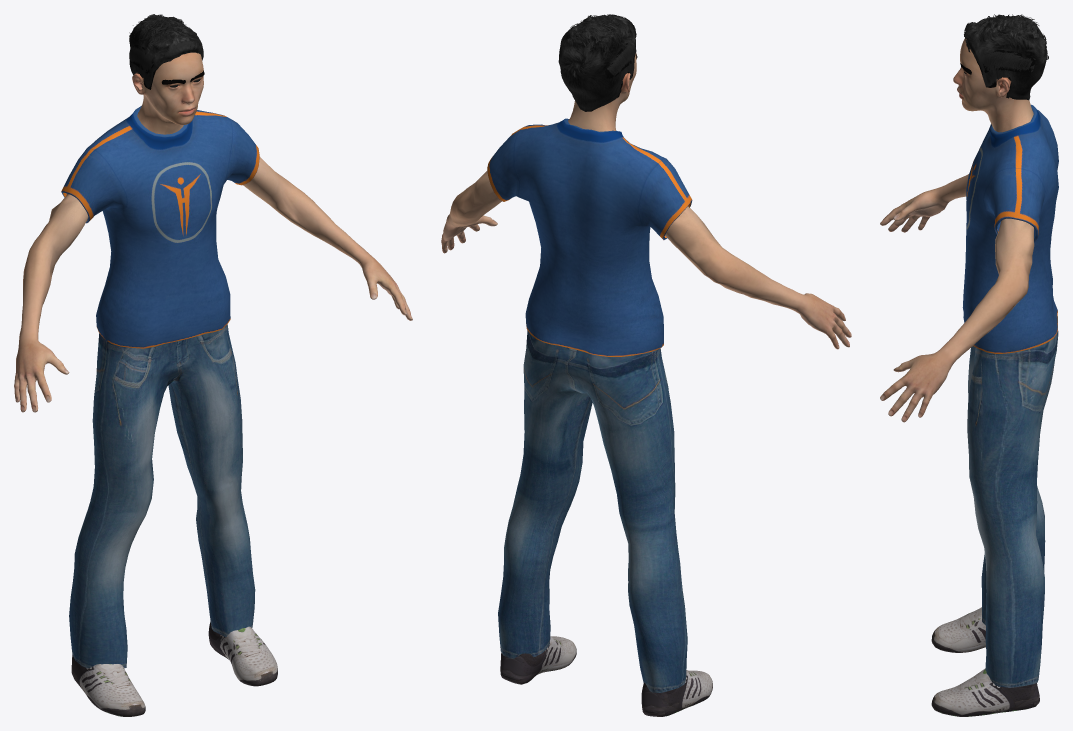
3 views of the same model, side by side, from view 1: azimuth 30°, elevation 25°; view 2: azimuth 150°, elevation 25°; view 3: azimuth 270°, elevation 25° (orthographic). The views are drawn at different scales.
Visible parts, largest first — view 1: male_casualsuit04Mesh, male_muscle_13290Mesh, shoes05Mesh, short01Mesh; view 2: male_casualsuit04Mesh, male_muscle_13290Mesh, short01Mesh, shoes05Mesh; view 3: male_casualsuit04Mesh, male_muscle_13290Mesh, short01Mesh, shoes05Mesh.
Boxes of the visible parts, box(x1,y1,x2,y2) form: male_casualsuit04Mesh: box(61, 106, 259, 668); male_muscle_13290Mesh: box(14, 52, 412, 412); shoes05Mesh: box(71, 621, 277, 716); short01Mesh: box(129, 14, 203, 89); male_casualsuit04Mesh: box(487, 118, 692, 692); male_muscle_13290Mesh: box(441, 53, 851, 349); short01Mesh: box(558, 14, 636, 111); shoes05Mesh: box(500, 636, 712, 716); male_casualsuit04Mesh: box(962, 104, 1058, 687); male_muscle_13290Mesh: box(880, 38, 1034, 422); short01Mesh: box(964, 14, 1048, 100); shoes05Mesh: box(931, 607, 1039, 716).
Bounding box in the file's own units: 1.02 × 1.65 × 0.4032.
Materials: 7 (6 with a texture image).
